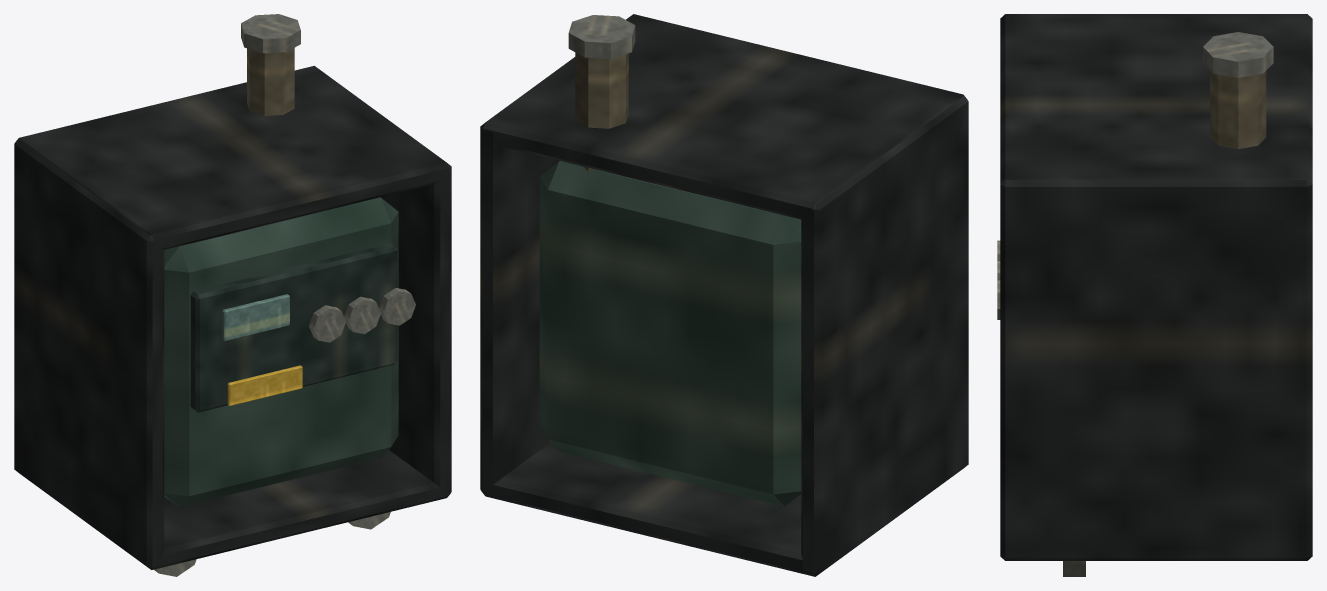
File: SH_POC_PortableGenerator.fbx
The picture shows the model from 3 angles, left to right: view 1: azimuth 30°, elevation 25°; view 2: azimuth 150°, elevation 25°; view 3: azimuth 270°, elevation 25°; orthographic projection. The views are drawn at different scales.
Visible parts, largest first — view 1: SH_POC_PortableGenerator; view 2: SH_POC_PortableGenerator; view 3: SH_POC_PortableGenerator.
Boxes of the visible parts, x1,y1,x2,y2 form: SH_POC_PortableGenerator: (14, 14, 451, 576); SH_POC_PortableGenerator: (480, 14, 968, 576); SH_POC_PortableGenerator: (997, 14, 1312, 576).
Size of the model in its own units: 0.785 by 1.11 by 0.6155.
Materials: 1 (1 with a texture image).
